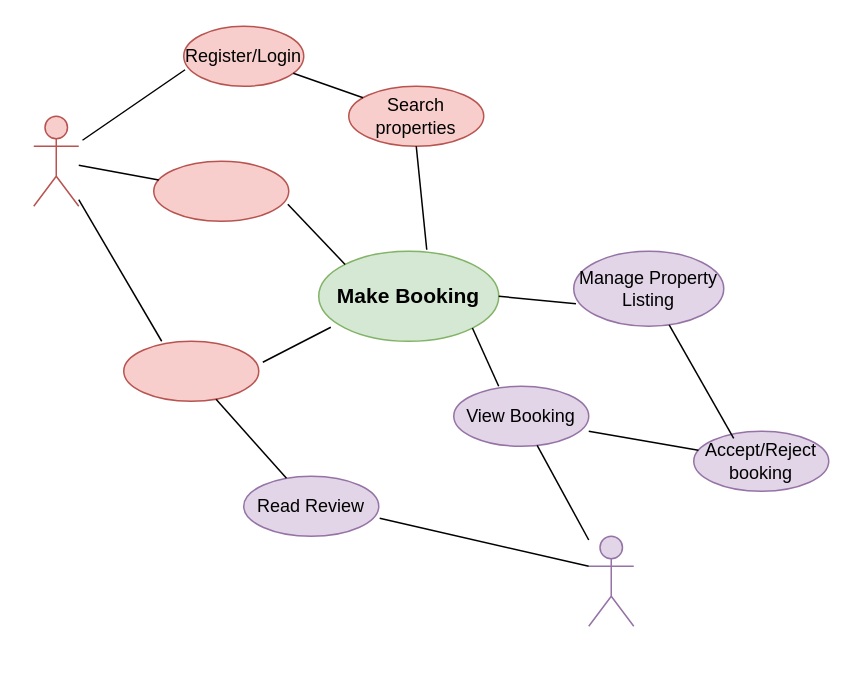
The diagram is 855 pixels wide and 689 high, and some of its shapes have lost their labels. The centre of each missing label's shape, as x and y in pixels:
"Guest" belongs at point 55,160.
"Host" belongs at point 610,580.
"Leave a review" belongs at point 190,370.
"Make Payments" belongs at point 220,190.
